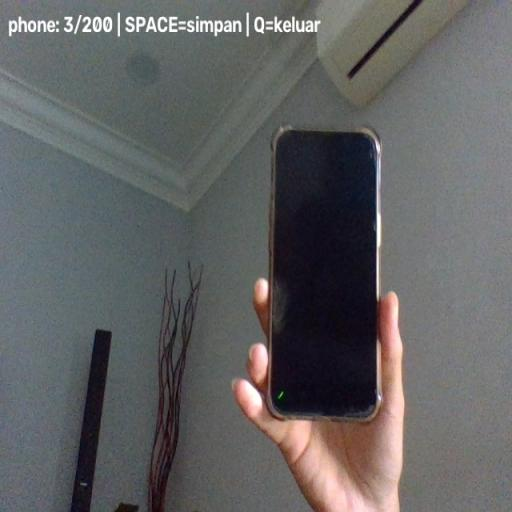Phone: (266, 124, 383, 424)
